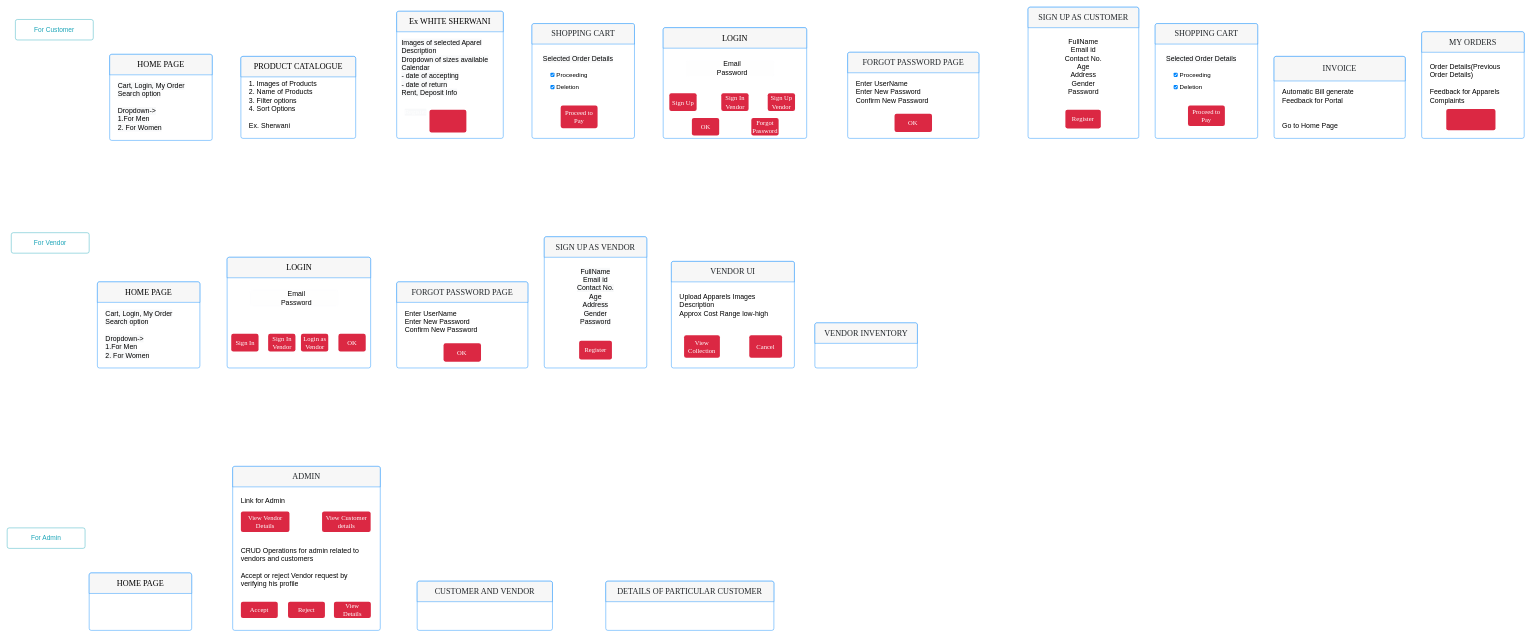
This 1531x638 diagram has some shape labels left out. Here are the shapes that lost their labels. From the top down, the centre of each, then its label:
(447,120): Add to Cart
(1470,119): Submit Apparels
(865,345): Inventory Details
(140,601): Admin Email Id Password
(484,605): View All Customer and Vendor Details
(689,605): CRUD Operations can be performed
